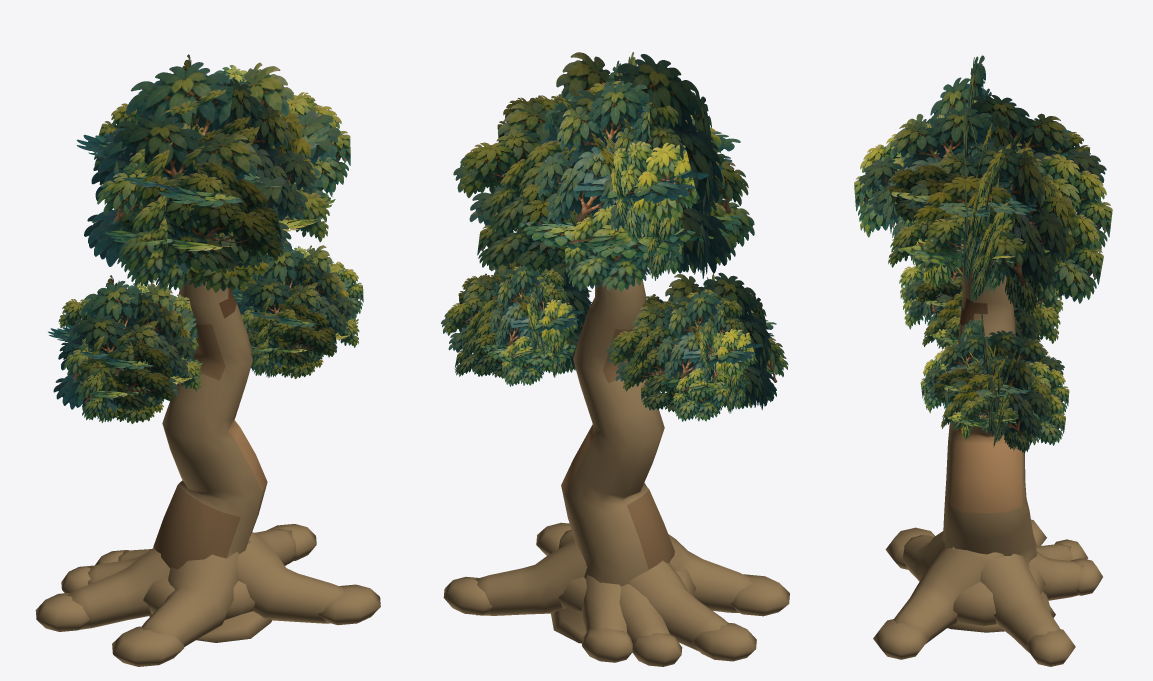
Rendered from TREE_EUCALYPTUS_001_v014_LOD_CLOSE.glb.
3 renders of one model, left to right at view 1: azimuth 30°, elevation 25°; view 2: azimuth 150°, elevation 25°; view 3: azimuth 270°, elevation 25°, orthographic. The views are drawn at different scales.
Visible parts, largest first — view 1: TREE_EUCALYPTUS_001_CLOSE_AUTHORED_FOLIAGE_ISLANDS, TREE_EUCALYPTUS_001_CLOSE_MAIN_TRUNK, TREE_EUCALYPTUS_001_CLOSE_ROOT_FRONT_LEFT, TREE_EUCALYPTUS_001_CLOSE_ROOT_FRONT_RIGHT, TREE_EUCALYPTUS_001_CLOSE_ROOT_LONG_LEFT, TREE_EUCALYPTUS_001_CLOSE_ROOT_TOE_FRONT_LEFT, TREE_EUCALYPTUS_001_CLOSE_ROOT_TOE_FRONT_RIGHT, TREE_EUCALYPTUS_001_CLOSE_ROOT_TOE_LONG_LEFT, TREE_EUCALYPTUS_001_CLOSE_SCULPTED_ROOT_COLLAR, TREE_EUCALYPTUS_001_CLOSE_BROAD_PLANTED_ROOT_MOUND, TREE_EUCALYPTUS_001_CLOSE_ROOT_RIGHT_SIDE, TREE_EUCALYPTUS_001_CLOSE_ROOT_TOE_RIGHT_SIDE (+2 smaller); view 2: TREE_EUCALYPTUS_001_CLOSE_AUTHORED_FOLIAGE_ISLANDS, TREE_EUCALYPTUS_001_CLOSE_MAIN_TRUNK, TREE_EUCALYPTUS_001_CLOSE_ROOT_RIGHT_SIDE, TREE_EUCALYPTUS_001_CLOSE_ROOT_LONG_LEFT, TREE_EUCALYPTUS_001_CLOSE_ROOT_FRONT_LEFT, TREE_EUCALYPTUS_001_CLOSE_ROOT_REAR_SHORT, TREE_EUCALYPTUS_001_CLOSE_ROOT_TOE_LONG_LEFT, TREE_EUCALYPTUS_001_CLOSE_ROOT_TOE_FRONT_LEFT, TREE_EUCALYPTUS_001_CLOSE_ROOT_LEFT_REAR, TREE_EUCALYPTUS_001_CLOSE_ROOT_TOE_REAR_SHORT, TREE_EUCALYPTUS_001_CLOSE_ROOT_TOE_LEFT_REAR, TREE_EUCALYPTUS_001_CLOSE_ROOT_TOE_RIGHT_SIDE (+3 smaller); view 3: TREE_EUCALYPTUS_001_CLOSE_AUTHORED_FOLIAGE_ISLANDS, TREE_EUCALYPTUS_001_CLOSE_MAIN_TRUNK, TREE_EUCALYPTUS_001_CLOSE_ROOT_FRONT_RIGHT, TREE_EUCALYPTUS_001_CLOSE_ROOT_RIGHT_SIDE, TREE_EUCALYPTUS_001_CLOSE_BROAD_PLANTED_ROOT_MOUND, TREE_EUCALYPTUS_001_CLOSE_ROOT_REAR_SHORT, TREE_EUCALYPTUS_001_CLOSE_ROOT_TOE_FRONT_RIGHT, TREE_EUCALYPTUS_001_CLOSE_ROOT_TOE_RIGHT_SIDE, TREE_EUCALYPTUS_001_CLOSE_ROOT_FRONT_LEFT, TREE_EUCALYPTUS_001_CLOSE_ROOT_TOE_FRONT_LEFT, TREE_EUCALYPTUS_001_CLOSE_ROOT_TOE_REAR_SHORT, TREE_EUCALYPTUS_001_CLOSE_SCULPTED_ROOT_COLLAR (+1 smaller).
Part boxes in pixels (box(x1,y1,x2,y2)): TREE_EUCALYPTUS_001_CLOSE_AUTHORED_FOLIAGE_ISLANDS: box(48, 54, 363, 423); TREE_EUCALYPTUS_001_CLOSE_MAIN_TRUNK: box(153, 280, 267, 569); TREE_EUCALYPTUS_001_CLOSE_ROOT_FRONT_LEFT: box(142, 540, 250, 646); TREE_EUCALYPTUS_001_CLOSE_ROOT_FRONT_RIGHT: box(236, 532, 346, 623); TREE_EUCALYPTUS_001_CLOSE_ROOT_LONG_LEFT: box(67, 548, 170, 629); TREE_EUCALYPTUS_001_CLOSE_ROOT_TOE_FRONT_LEFT: box(112, 626, 184, 666); TREE_EUCALYPTUS_001_CLOSE_ROOT_TOE_FRONT_RIGHT: box(318, 584, 380, 625); TREE_EUCALYPTUS_001_CLOSE_ROOT_TOE_LONG_LEFT: box(35, 592, 89, 631); TREE_EUCALYPTUS_001_CLOSE_SCULPTED_ROOT_COLLAR: box(149, 611, 272, 642); TREE_EUCALYPTUS_001_CLOSE_BROAD_PLANTED_ROOT_MOUND: box(143, 577, 254, 619); TREE_EUCALYPTUS_001_CLOSE_ROOT_RIGHT_SIDE: box(252, 529, 295, 565); TREE_EUCALYPTUS_001_CLOSE_ROOT_TOE_RIGHT_SIDE: box(266, 524, 316, 560); TREE_EUCALYPTUS_001_CLOSE_AUTHORED_FOLIAGE_ISLANDS: box(441, 52, 788, 421); TREE_EUCALYPTUS_001_CLOSE_MAIN_TRUNK: box(561, 255, 674, 586); TREE_EUCALYPTUS_001_CLOSE_ROOT_RIGHT_SIDE: box(475, 540, 587, 615); TREE_EUCALYPTUS_001_CLOSE_ROOT_LONG_LEFT: box(629, 560, 727, 651); TREE_EUCALYPTUS_001_CLOSE_ROOT_FRONT_LEFT: box(668, 534, 752, 612); TREE_EUCALYPTUS_001_CLOSE_ROOT_REAR_SHORT: box(581, 575, 627, 632); TREE_EUCALYPTUS_001_CLOSE_ROOT_TOE_LONG_LEFT: box(692, 622, 756, 661); TREE_EUCALYPTUS_001_CLOSE_ROOT_TOE_FRONT_LEFT: box(730, 574, 789, 616); TREE_EUCALYPTUS_001_CLOSE_ROOT_LEFT_REAR: box(619, 584, 669, 643); TREE_EUCALYPTUS_001_CLOSE_ROOT_TOE_REAR_SHORT: box(582, 628, 632, 662); TREE_EUCALYPTUS_001_CLOSE_ROOT_TOE_LEFT_REAR: box(632, 633, 682, 666); TREE_EUCALYPTUS_001_CLOSE_ROOT_TOE_RIGHT_SIDE: box(443, 576, 492, 615); TREE_EUCALYPTUS_001_CLOSE_AUTHORED_FOLIAGE_ISLANDS: box(854, 55, 1112, 453); TREE_EUCALYPTUS_001_CLOSE_MAIN_TRUNK: box(942, 255, 1036, 567); TREE_EUCALYPTUS_001_CLOSE_ROOT_FRONT_RIGHT: box(894, 548, 1004, 643); TREE_EUCALYPTUS_001_CLOSE_ROOT_RIGHT_SIDE: box(980, 553, 1059, 652); TREE_EUCALYPTUS_001_CLOSE_BROAD_PLANTED_ROOT_MOUND: box(953, 568, 1045, 625); TREE_EUCALYPTUS_001_CLOSE_ROOT_REAR_SHORT: box(1028, 551, 1084, 600); TREE_EUCALYPTUS_001_CLOSE_ROOT_TOE_FRONT_RIGHT: box(873, 619, 929, 659); TREE_EUCALYPTUS_001_CLOSE_ROOT_TOE_RIGHT_SIDE: box(1025, 629, 1075, 666); TREE_EUCALYPTUS_001_CLOSE_ROOT_FRONT_LEFT: box(902, 531, 955, 581); TREE_EUCALYPTUS_001_CLOSE_ROOT_TOE_FRONT_LEFT: box(885, 527, 934, 569); TREE_EUCALYPTUS_001_CLOSE_ROOT_TOE_REAR_SHORT: box(1070, 558, 1102, 595); TREE_EUCALYPTUS_001_CLOSE_SCULPTED_ROOT_COLLAR: box(948, 591, 1055, 632).
Bounding box in the file's own units: 4.13 × 6.57 × 3.3.
Materials: 5 (1 with a texture image).
